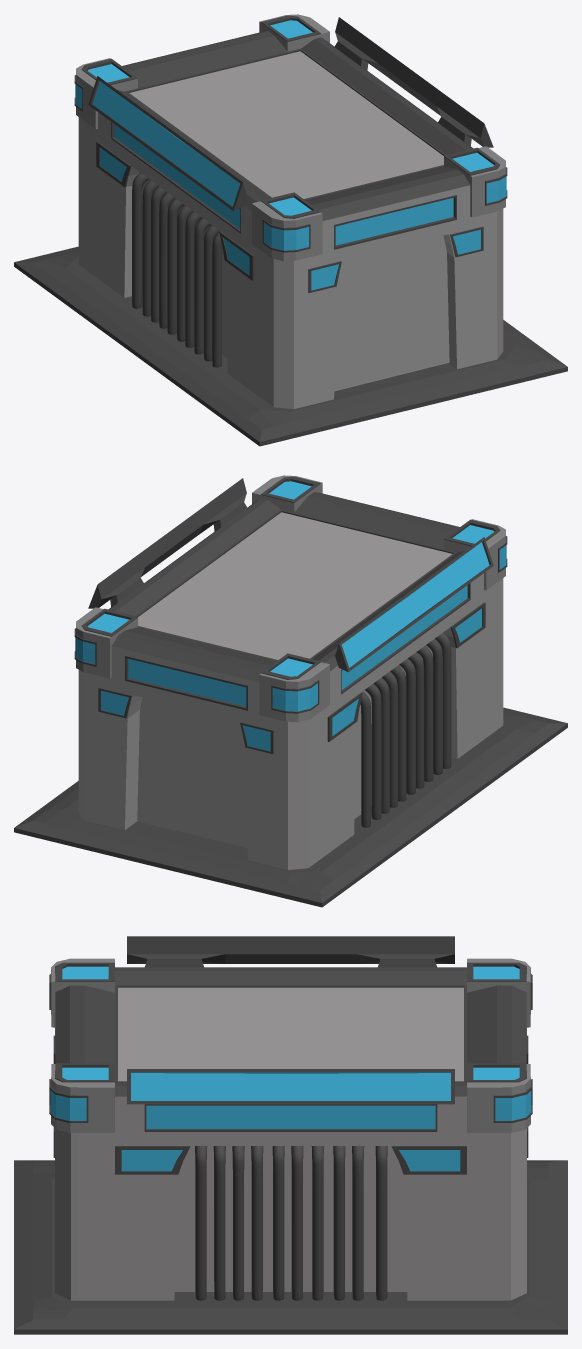
The model's file is Table_CLEANED_Shaded_Buildings_Update3 1.fbx.
3 renders of one model, top to bottom at view 1: azimuth 30°, elevation 25°; view 2: azimuth 150°, elevation 25°; view 3: azimuth 270°, elevation 25°, orthographic. The views are drawn at different scales.
Parts seen in each view (by area): view 1: Cube, Cube.001, Cube.002, Cylinder.018, Cylinder.007, Cylinder.020, Cylinder.009, Cylinder.016, Cylinder.002, Cylinder.003, Cylinder.008, Cylinder.001 (+1 smaller); view 2: Cube, Cube.001, Cylinder.002, Cylinder.020, Cylinder.017, Cylinder.008, Cylinder.018, Cylinder.009, Cylinder.007, Cylinder.001, Cylinder.016, Cylinder.003 (+1 smaller); view 3: Cube, Cube.001, Cylinder.019, Cylinder.010, Cylinder.012, Cylinder.011, Cylinder.005, Cylinder.031, Cylinder.006, Cylinder.004, Cylinder.030, Cylinder.013.
Boxes of the visible parts, x1,y1,x2,y2 form: Cube: (74,14,507,409); Cube.001: (14,246,567,446); Cube.002: (142,179,449,391); Cylinder.018: (194,218,211,354); Cylinder.007: (167,198,183,334); Cylinder.020: (132,172,148,308); Cylinder.009: (185,211,201,347); Cylinder.016: (212,231,222,367); Cylinder.002: (142,180,158,316); Cylinder.003: (159,192,175,328); Cylinder.008: (177,205,192,341); Cylinder.001: (150,186,166,322); Cube: (74,475,507,870); Cube.001: (14,707,567,907); Cylinder.002: (364,683,381,819); Cylinder.020: (360,691,371,827); Cylinder.017: (426,638,442,774); Cylinder.008: (399,658,415,794); Cylinder.018: (416,645,433,781); Cylinder.009: (408,652,424,788); Cylinder.007: (390,665,406,801); Cylinder.001: (374,677,389,813); Cylinder.016: (435,632,451,768); Cylinder.003: (382,671,398,807); Cube: (49,936,532,1300); Cube.001: (14,1160,567,1334); Cylinder.019: (375,1146,387,1300); Cylinder.010: (291,1146,303,1300); Cylinder.012: (251,1146,263,1300); Cylinder.011: (272,1146,284,1300); Cylinder.005: (333,1146,345,1300); Cylinder.031: (213,1146,225,1300); Cylinder.006: (352,1146,364,1300); Cylinder.004: (311,1146,323,1300); Cylinder.030: (195,1146,207,1300); Cylinder.013: (232,1146,244,1300).
Size of the model in its own units: 672 by 457 by 928.
